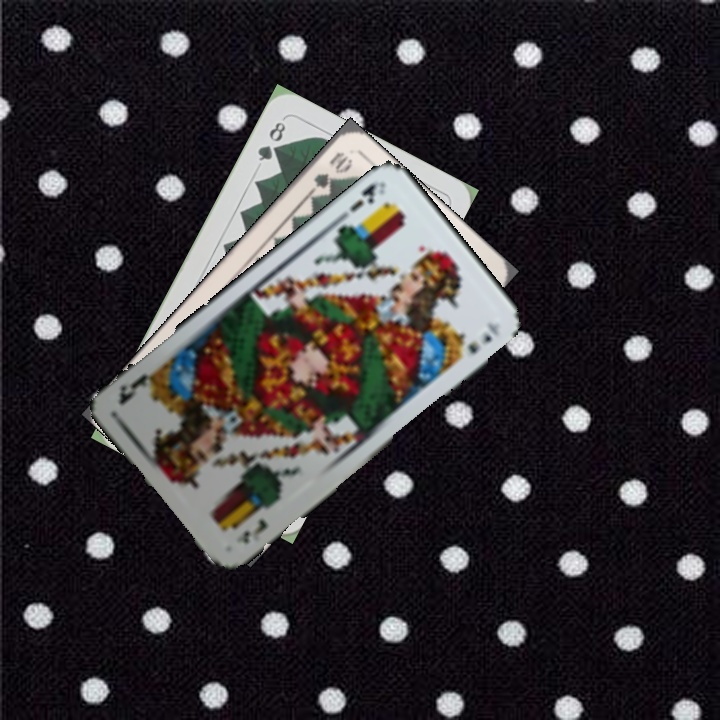EK: (346, 177, 383, 215), (232, 514, 270, 547)
G10: (305, 147, 355, 196)
G8: (253, 117, 289, 164)
